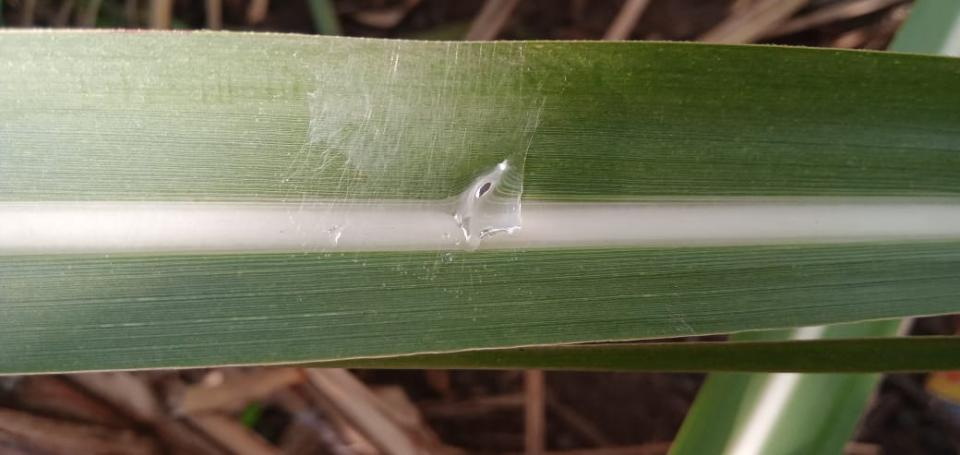Healthy: (0, 27, 959, 375)
